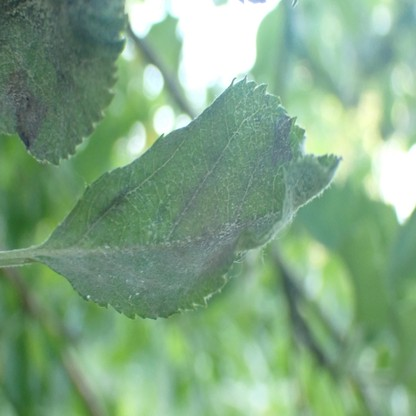powder: (42, 74, 342, 320), (0, 0, 129, 166)
